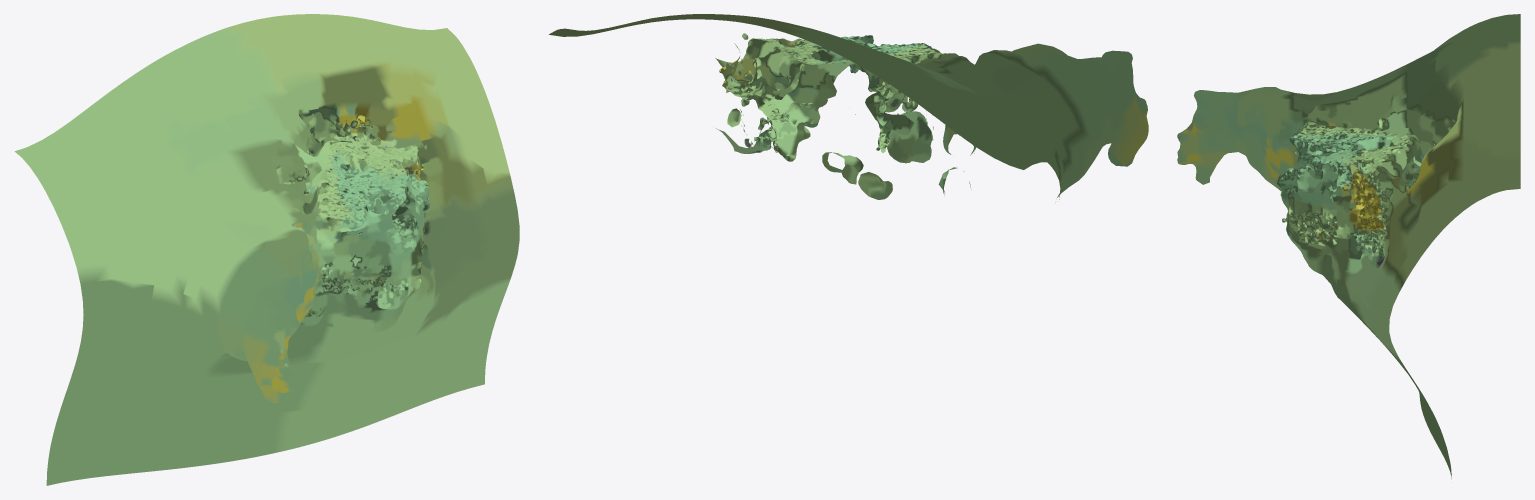
File: semantic_asset.glb
The picture shows the model from 3 angles, left to right: view 1: azimuth 30°, elevation 25°; view 2: azimuth 150°, elevation 25°; view 3: azimuth 270°, elevation 25°; orthographic projection. The views are drawn at different scales.
Parts seen in each view (by area): view 1: semantic_mesh.ply; view 2: semantic_mesh.ply; view 3: semantic_mesh.ply.
Part boxes in pixels (x1,y1,x2,y2): semantic_mesh.ply: (14, 14, 519, 485); semantic_mesh.ply: (549, 14, 1148, 199); semantic_mesh.ply: (1177, 14, 1520, 478).
Bounding box in the file's own units: 39.61 × 33.56 × 30.11.
